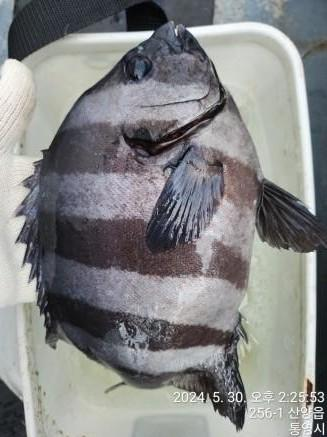fish: (16, 21, 326, 432)
